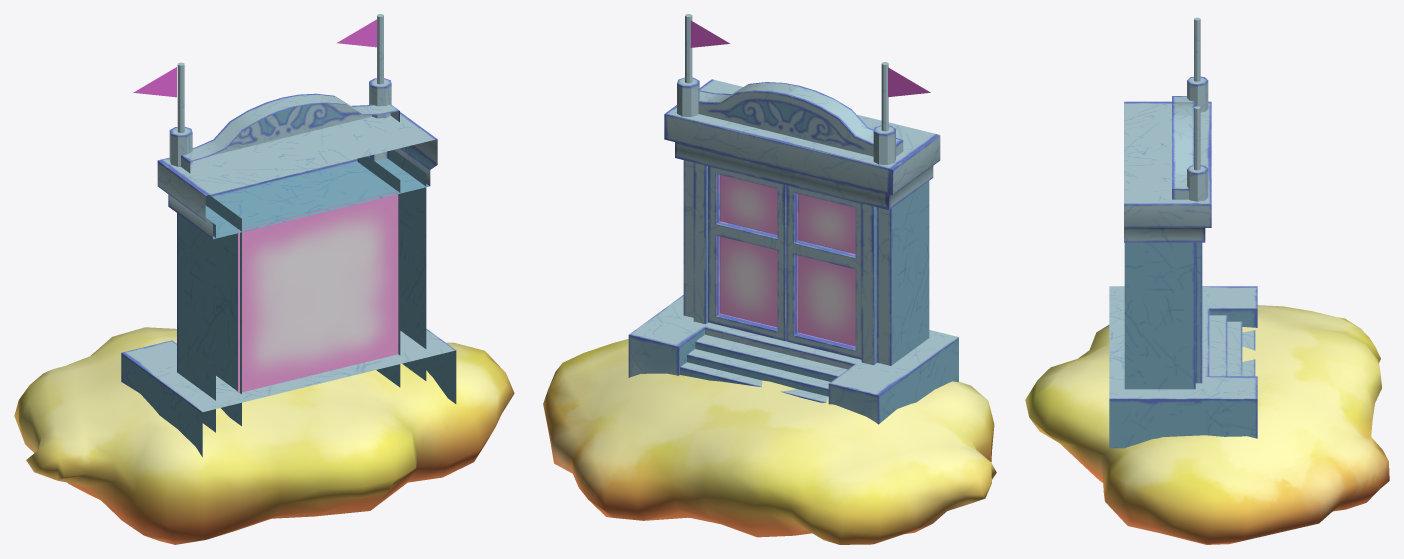
File: Goal_Close.fbx
3 renders of one model, left to right at view 1: azimuth 30°, elevation 25°; view 2: azimuth 150°, elevation 25°; view 3: azimuth 270°, elevation 25°, orthographic. The views are drawn at different scales.
Visible parts, largest first — view 1: goal_close; view 2: goal_close; view 3: goal_close.
Part boxes in pixels (x1=…): goal_close: x1=14, y1=14, x2=514, y2=544; goal_close: x1=543, y1=14, x2=996, y2=544; goal_close: x1=1025, y1=17, x2=1389, y2=544.
Size of the model in its own units: 1.97 by 1.9 by 1.51.
1 material, 1 textured.
